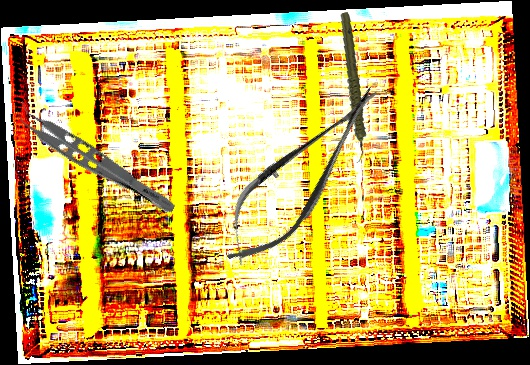Handpiece: (322, 11, 382, 164)
Micro Scissor: (201, 69, 403, 281)
Tissue Forceps: (8, 97, 185, 218)
